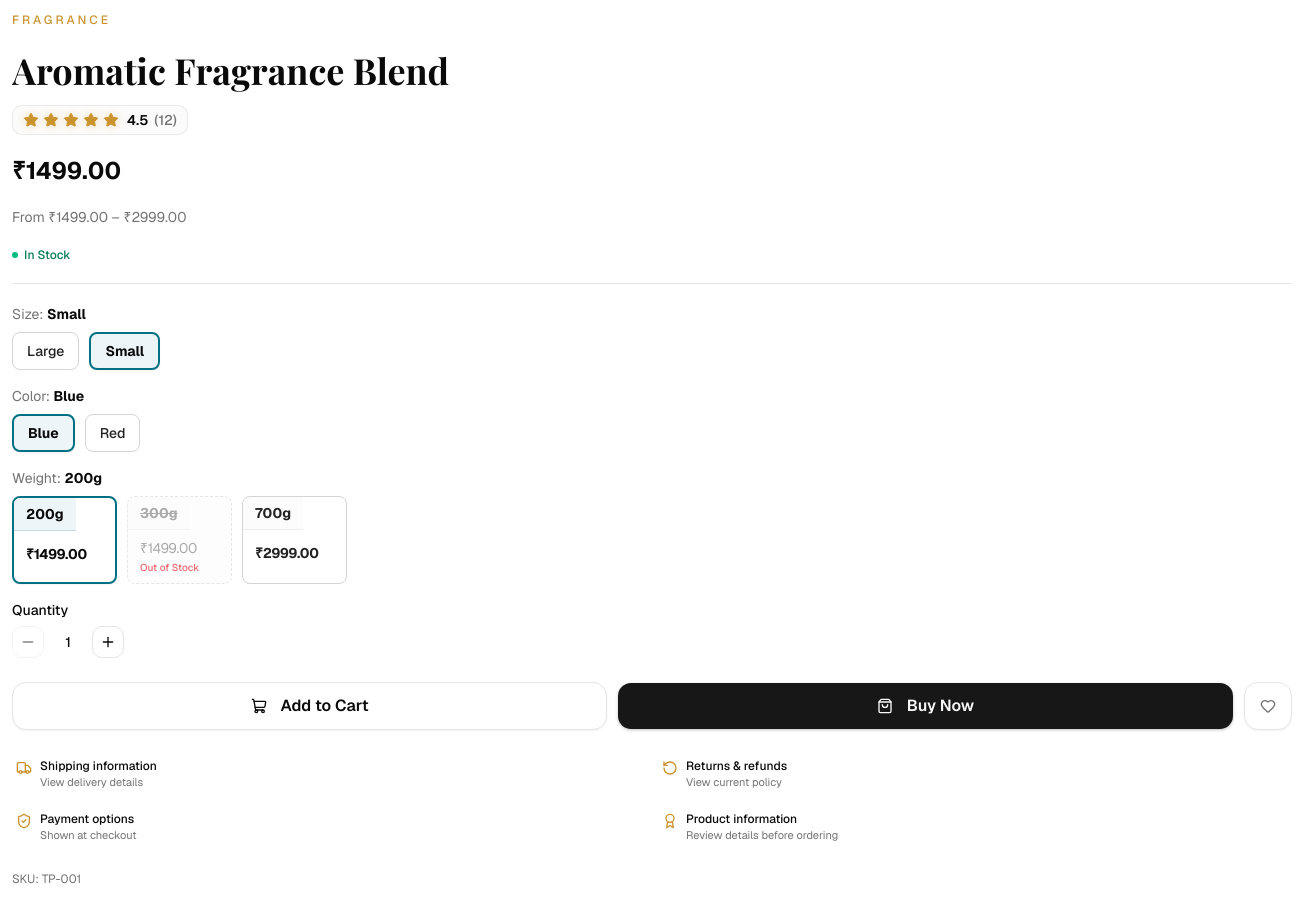
Test: ProductInfo Variations & Live Price Updating › updates price immediately to ₹2999.00 and routes when user clicks Large
Expected: the 1st text "₹1499.00" is shown, left=12, top=155, right=121, bottom=187
Click the button "Large". click: x=46, y=351
box: left=12, top=332, right=79, bottom=370
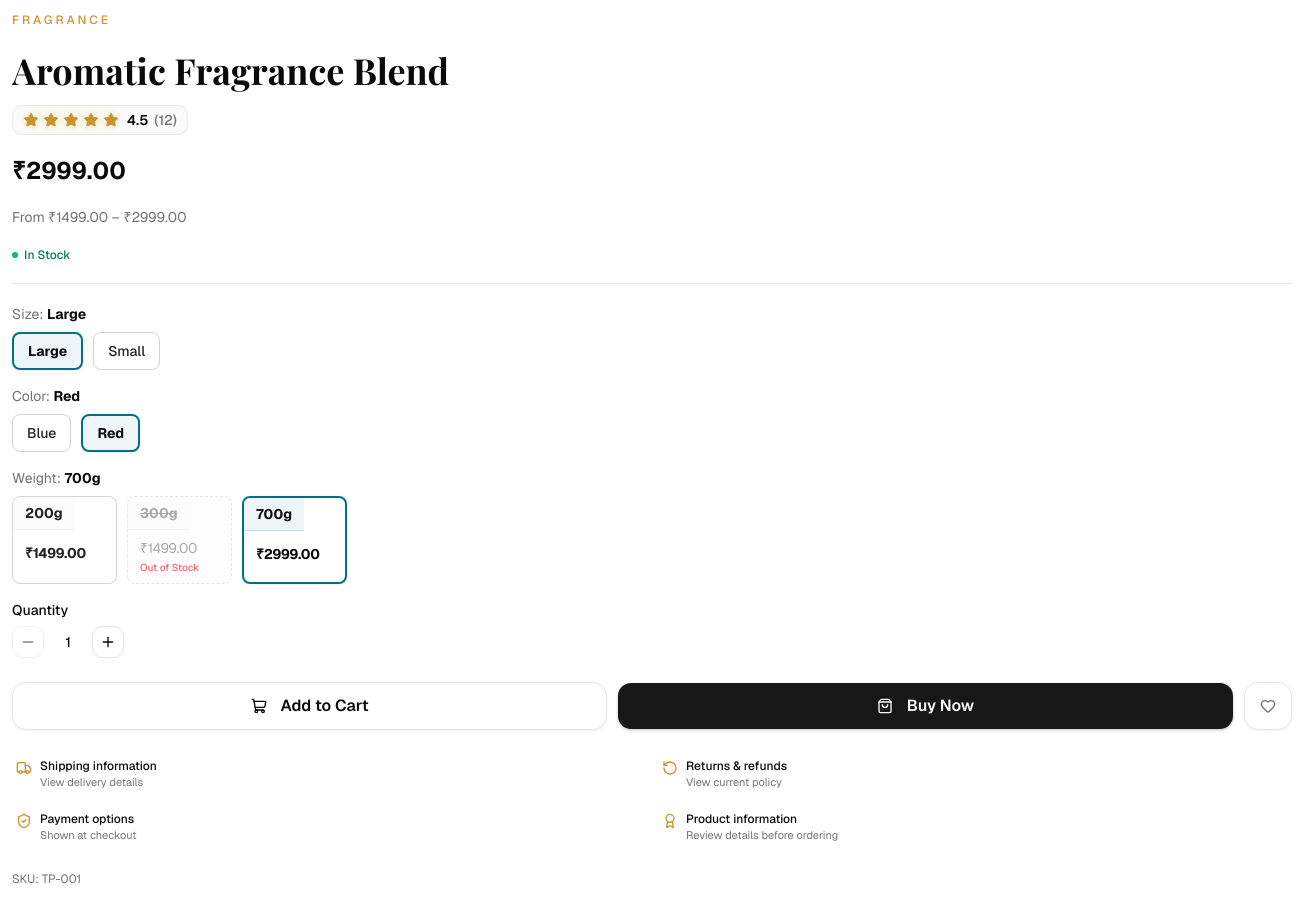
Now the 1st text "₹2999.00" is shown, box left=12, top=155, right=126, bottom=187
